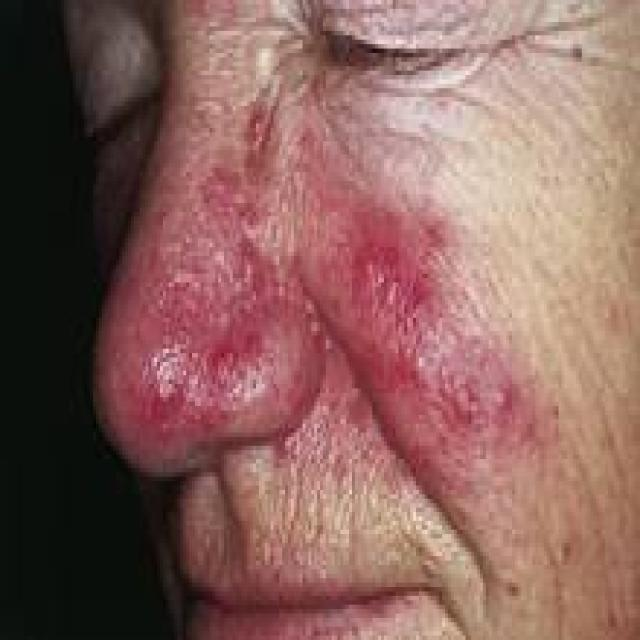Rosacea: (92, 176, 309, 451), (318, 192, 526, 460)
